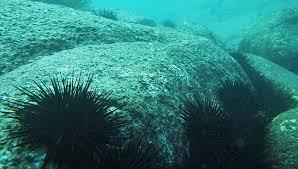urchin: (1, 72, 134, 169), (179, 96, 231, 163), (91, 133, 173, 169), (209, 136, 284, 169), (210, 76, 259, 121), (255, 83, 292, 116), (91, 6, 120, 23), (227, 47, 246, 64)
